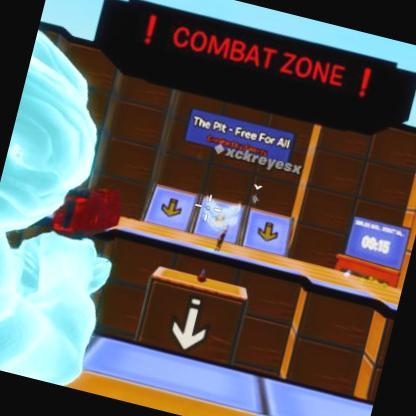person: (211, 227, 228, 251), (251, 191, 262, 206)
